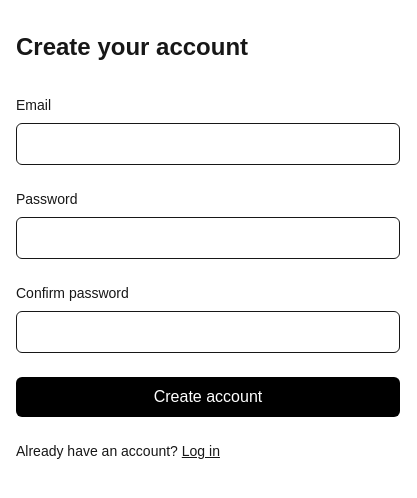
Test: Registration page › shows a confirmation message when email verification is required
Type "sean@example.com" into the field labelled "Email" at (208, 144), box [16,123,400,165]
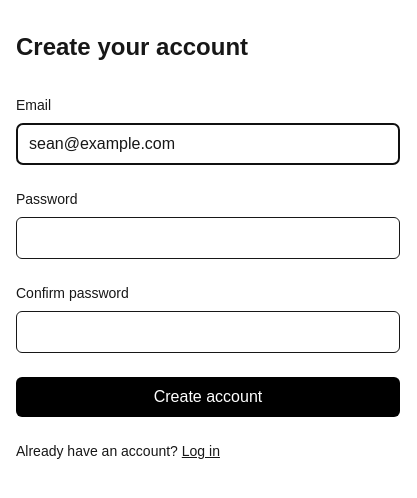
Type "secret-password" into the password field labelled "Password" at (208, 238), box [16,217,400,259]
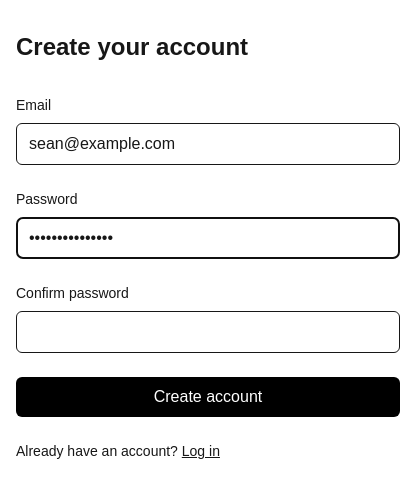
Type "secret-password" into the password field labelled "Confirm password" at (208, 332), box [16,311,400,353]
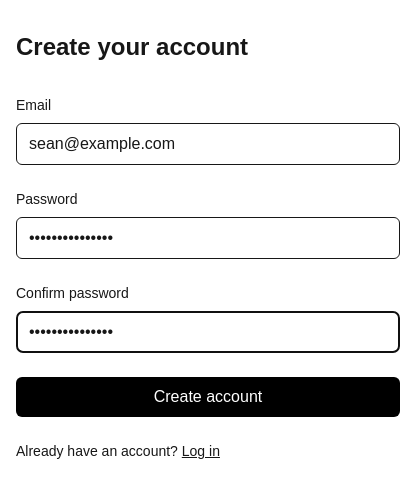
Click the button "Create account" at (208, 397), box [16,377,400,417]
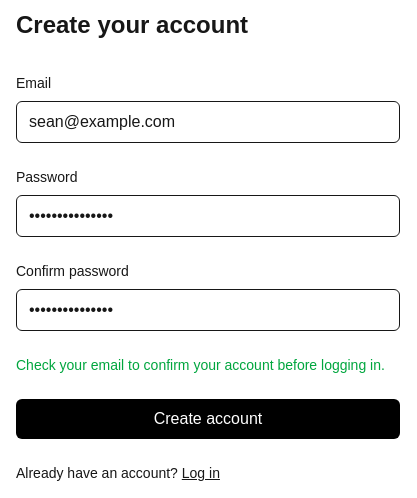
Check: the message reads "Check your email to confirm your account before logging in.", box [16,357,385,373]
